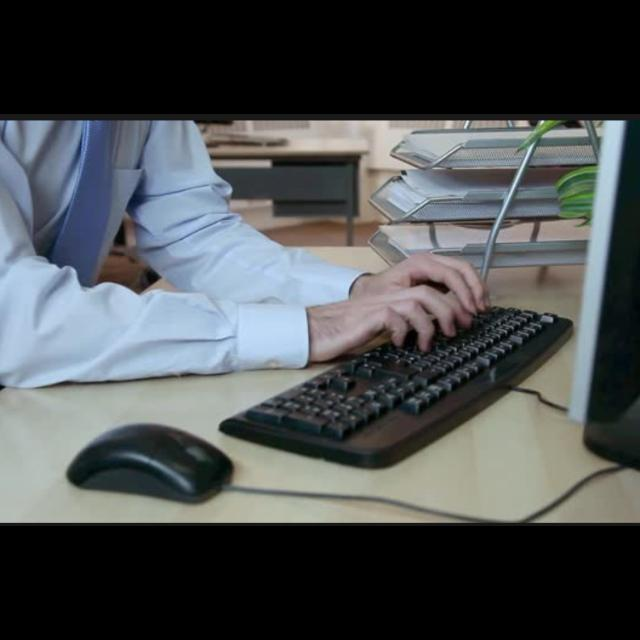Computer-Keyboard: (221, 307, 574, 471)
